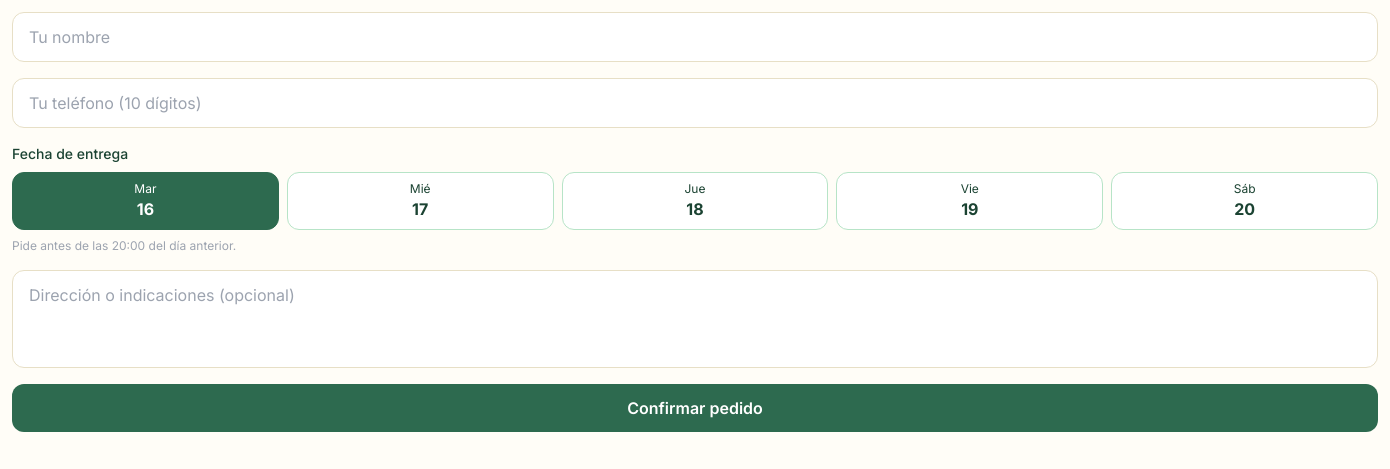
it: CheckoutForm › rejects phone that is not 10 digits
Type "Ana" into the field with placeholder "Tu nombre" at (695, 37), box left=12, top=12, right=1378, bottom=62
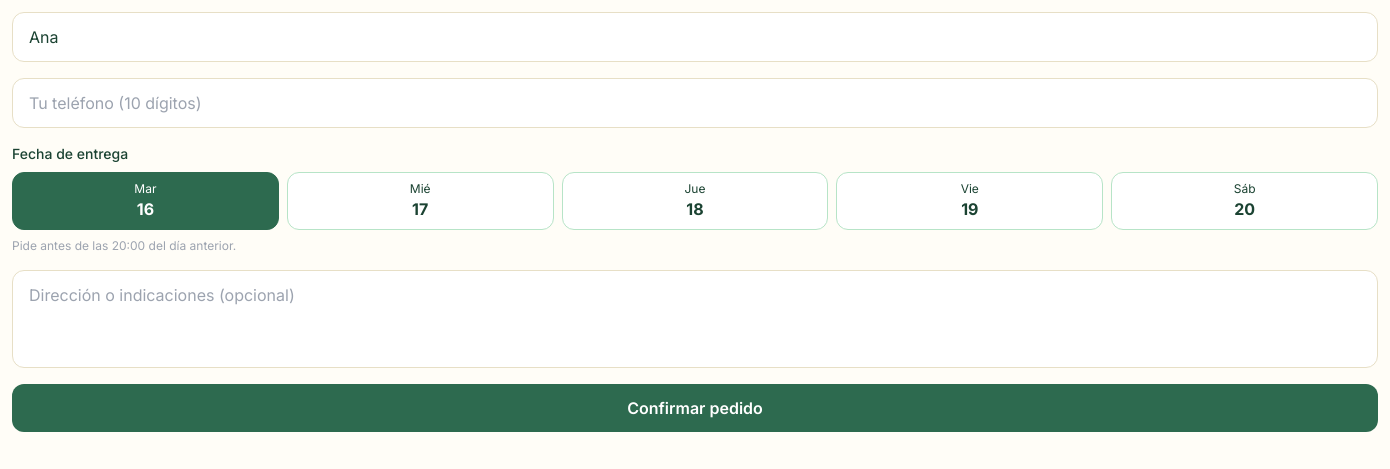
Type "5551234" into the field with placeholder "Tu teléfono (10 dígitos)" at (695, 103), box left=12, top=78, right=1378, bottom=128
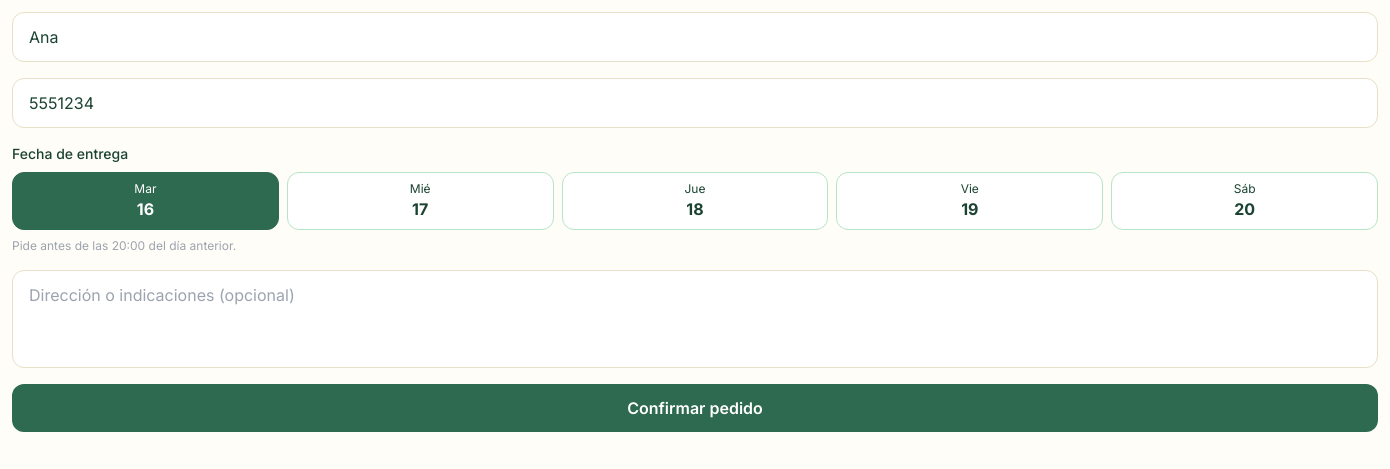
Click the button "Confirmar pedido" at (695, 408), box left=12, top=384, right=1378, bottom=432
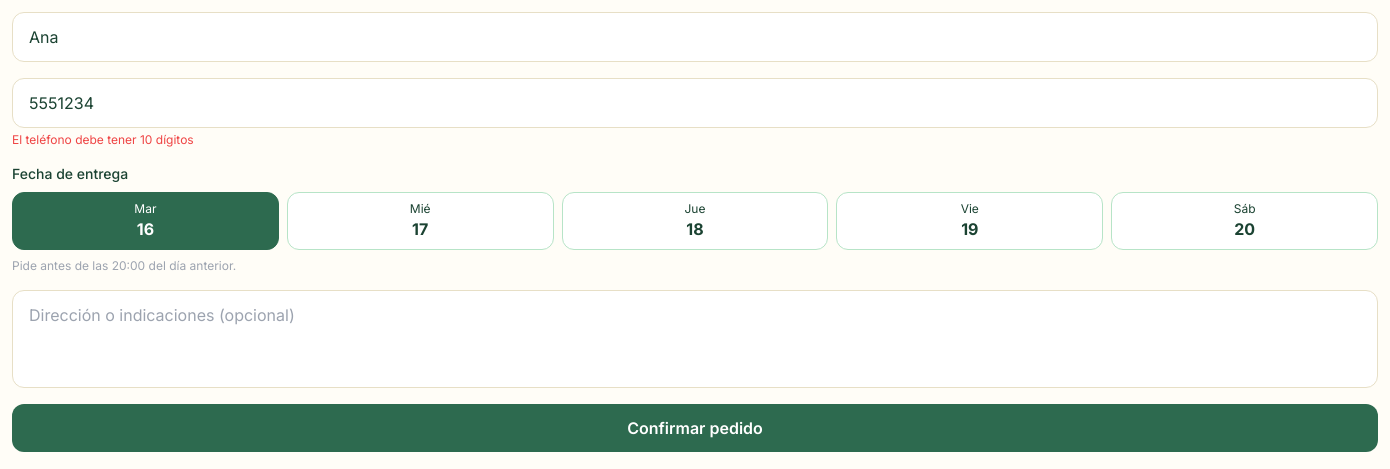
Check: the text "El teléfono debe tener 10 dígitos" is shown, box left=12, top=132, right=194, bottom=147
